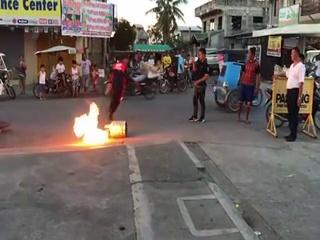Fire: (72, 94, 111, 144)
